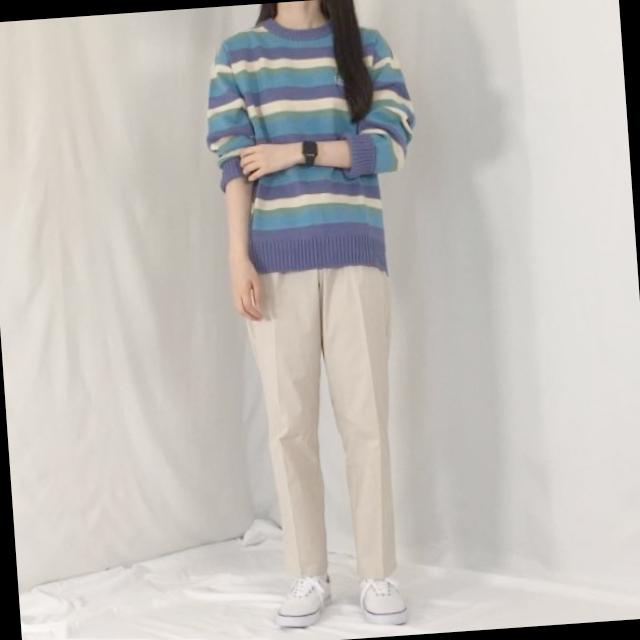cottonpants: (240, 262, 407, 588)
shortsleeve: (198, 5, 426, 279)
